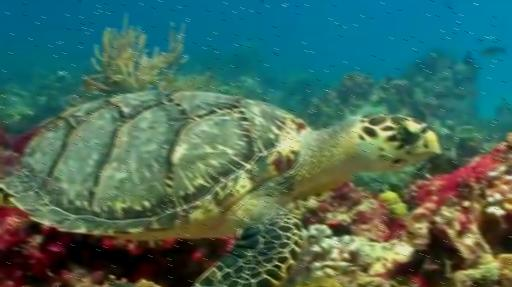Fish: (0, 92, 439, 286)
